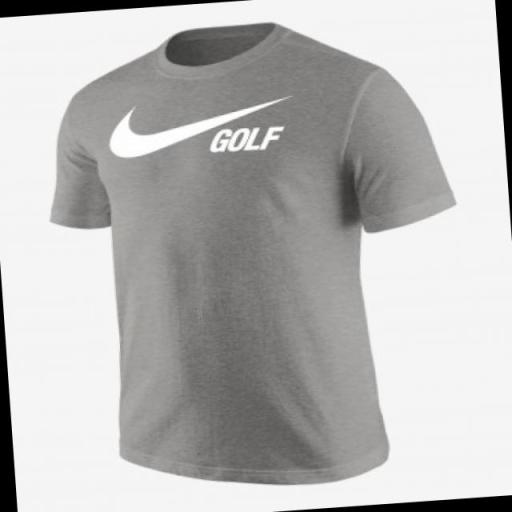Nike: (103, 90, 308, 168)
